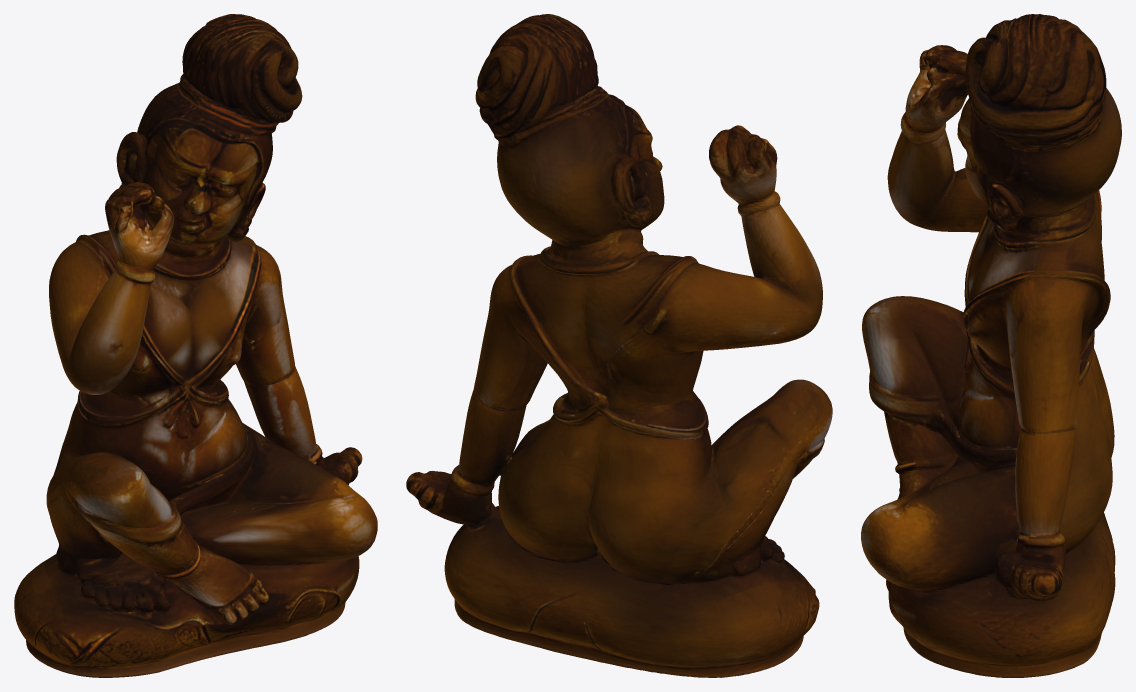
3 renders of one model, left to right at view 1: azimuth 30°, elevation 25°; view 2: azimuth 150°, elevation 25°; view 3: azimuth 270°, elevation 25°, orthographic. The views are drawn at different scales.
Visible parts, largest first — view 1: textured_mesh; view 2: textured_mesh; view 3: textured_mesh.
Part boxes in pixels (x1,y1,x2,y2): textured_mesh: (14,14,377,677); textured_mesh: (406,14,832,677); textured_mesh: (861,14,1121,677).
Size of the model in its own units: 1.3 by 1.99 by 0.7663.
Materials: 1 (1 with a texture image).
